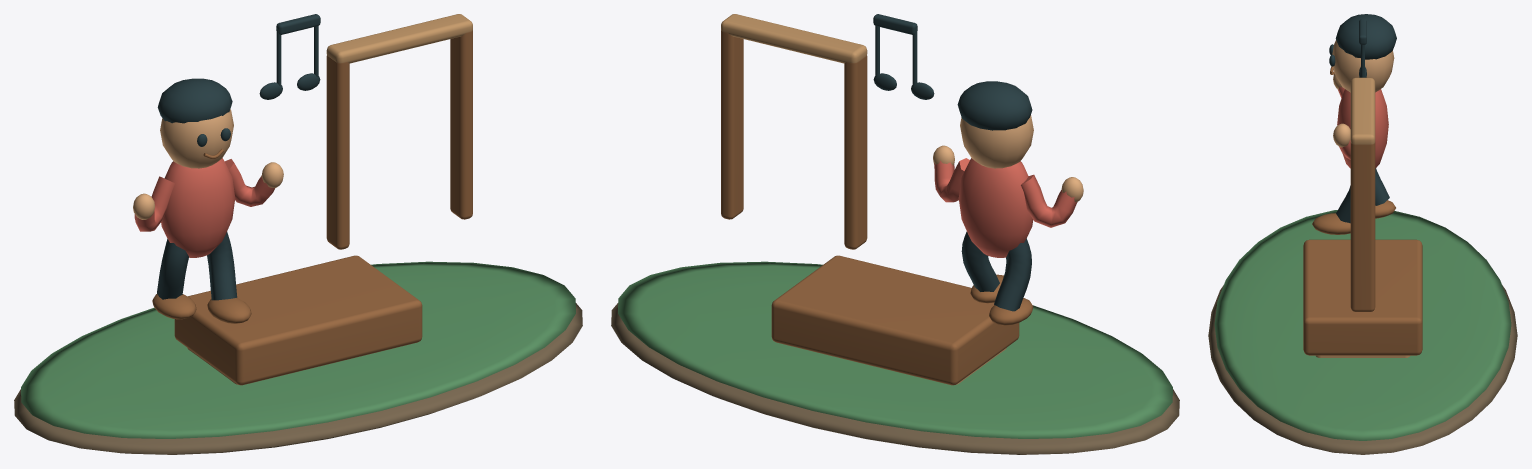
File: complete-second-performing-exit.glb
The picture shows the model from 3 angles, left to right: view 1: azimuth 30°, elevation 25°; view 2: azimuth 150°, elevation 25°; view 3: azimuth 270°, elevation 25°; orthographic projection. The views are drawn at different scales.
Parts seen in each view (by area): view 1: complete-second-performing-exit_surface_01, complete-second-performing-exit_surface_04, complete-second-performing-exit_surface_00, complete-second-performing-exit_surface_03, complete-second-performing-exit_surface_05, complete-second-performing-exit_surface_02, complete-second-performing-exit_surface_06; view 2: complete-second-performing-exit_surface_01, complete-second-performing-exit_surface_04, complete-second-performing-exit_surface_00, complete-second-performing-exit_surface_05, complete-second-performing-exit_surface_03, complete-second-performing-exit_surface_06, complete-second-performing-exit_surface_02; view 3: complete-second-performing-exit_surface_01, complete-second-performing-exit_surface_04, complete-second-performing-exit_surface_00, complete-second-performing-exit_surface_03, complete-second-performing-exit_surface_06, complete-second-performing-exit_surface_02, complete-second-performing-exit_surface_05.
Boxes of the visible parts, <box> form: complete-second-performing-exit_surface_01: <box>21,261,575,438</box>; complete-second-performing-exit_surface_04: <box>152,30,472,385</box>; complete-second-performing-exit_surface_00: <box>14,303,582,454</box>; complete-second-performing-exit_surface_03: <box>157,14,320,300</box>; complete-second-performing-exit_surface_05: <box>134,158,274,257</box>; complete-second-performing-exit_surface_02: <box>133,109,283,219</box>; complete-second-performing-exit_surface_06: <box>187,14,472,384</box>; complete-second-performing-exit_surface_01: <box>618,261,1172,438</box>; complete-second-performing-exit_surface_04: <box>721,30,1033,385</box>; complete-second-performing-exit_surface_00: <box>611,303,1179,454</box>; complete-second-performing-exit_surface_05: <box>934,158,1077,257</box>; complete-second-performing-exit_surface_03: <box>873,14,1032,311</box>; complete-second-performing-exit_surface_06: <box>721,14,1006,384</box>; complete-second-performing-exit_surface_02: <box>933,115,1083,202</box>; complete-second-performing-exit_surface_01: <box>1214,210,1511,440</box>; complete-second-performing-exit_surface_04: <box>1303,66,1422,355</box>; complete-second-performing-exit_surface_00: <box>1208,285,1517,454</box>; complete-second-performing-exit_surface_03: <box>1329,14,1396,223</box>; complete-second-performing-exit_surface_06: <box>1316,77,1409,357</box>; complete-second-performing-exit_surface_02: <box>1332,40,1394,147</box>; complete-second-performing-exit_surface_05: <box>1337,87,1388,168</box>.
Bounding box in the file's own units: 4.56 × 2.9 × 2.5.
